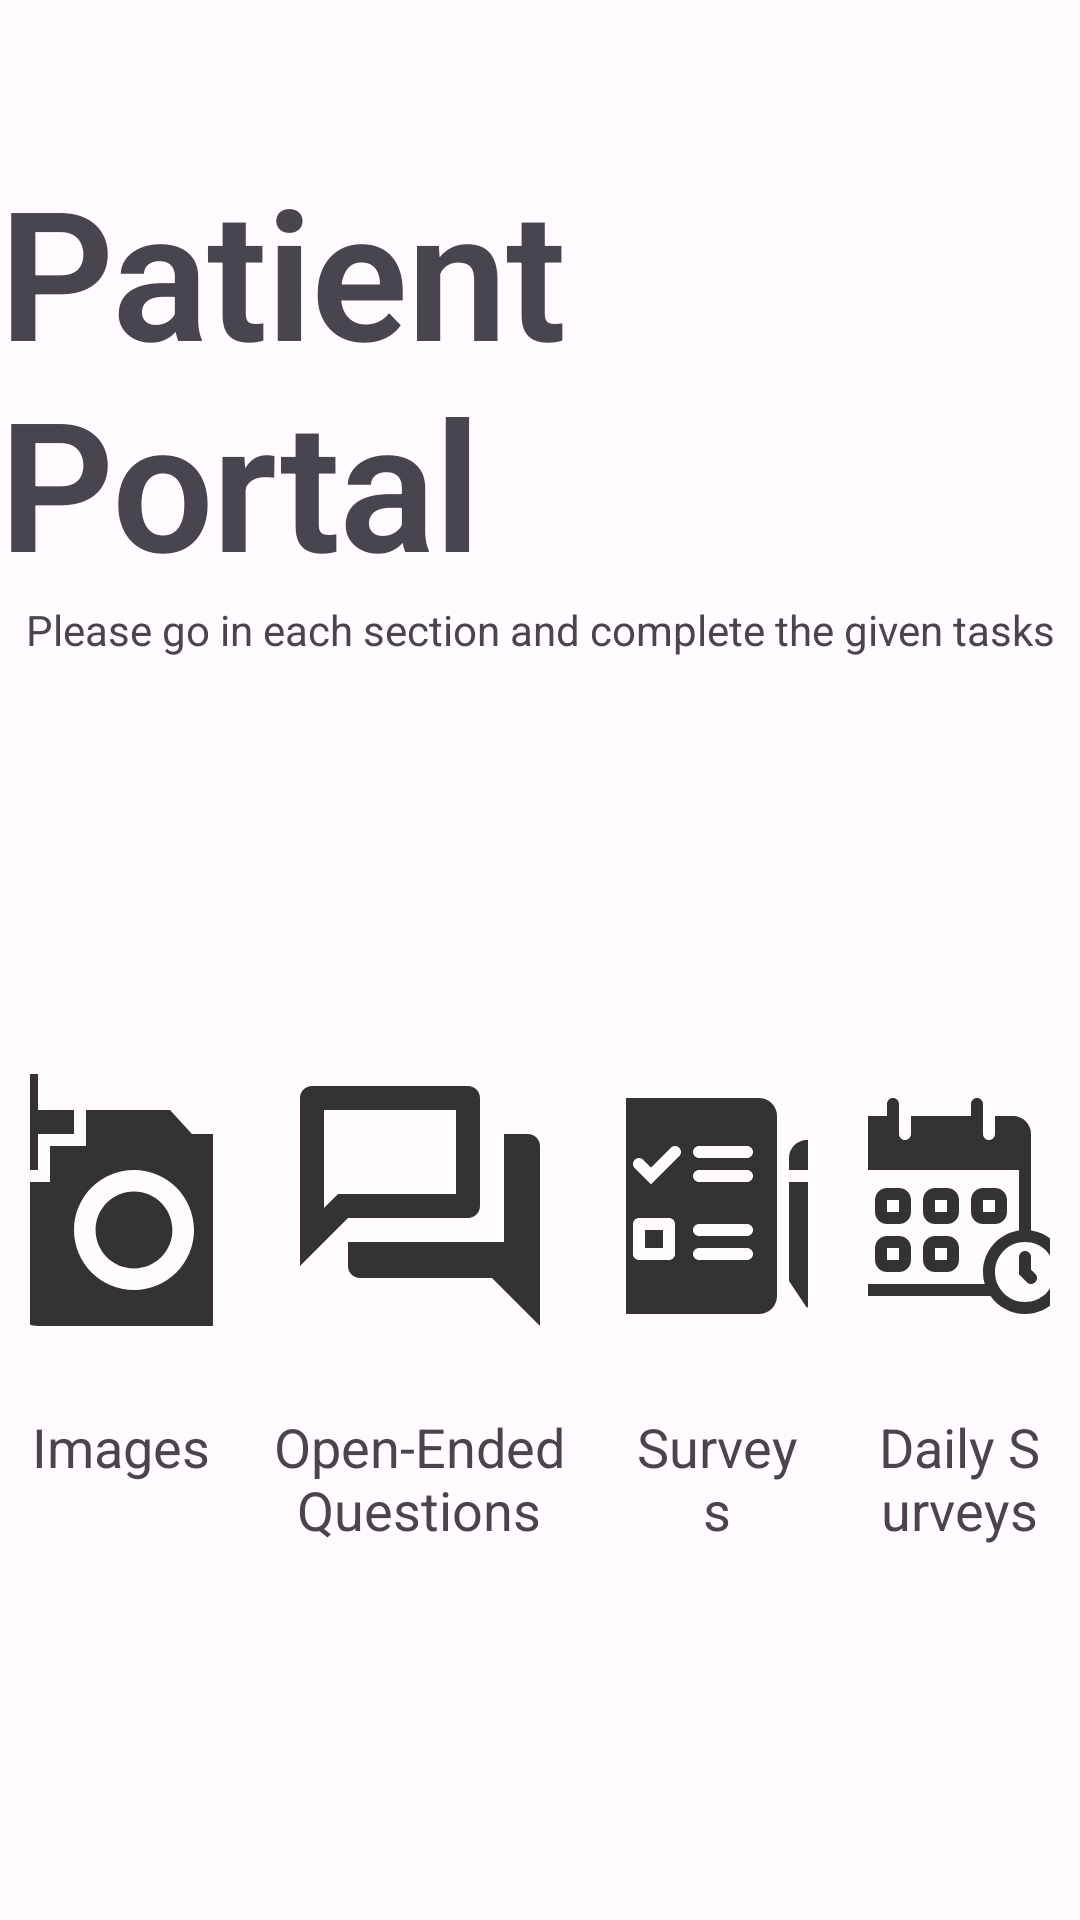

Icon bounding boxes for this 1080 x 1920 phone screenshot, format (x1, y1, x2, y2):
exam multiple choice: (626, 1098, 808, 1314)
